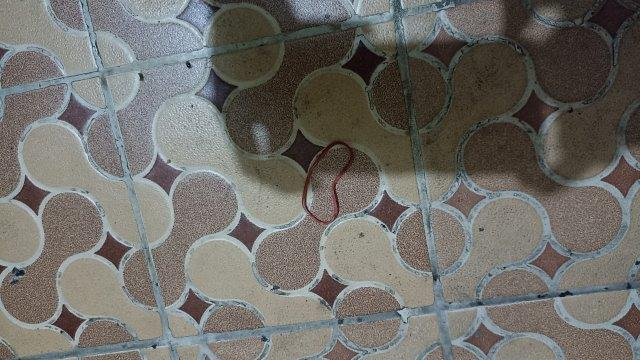karet: (301, 141, 353, 224)
